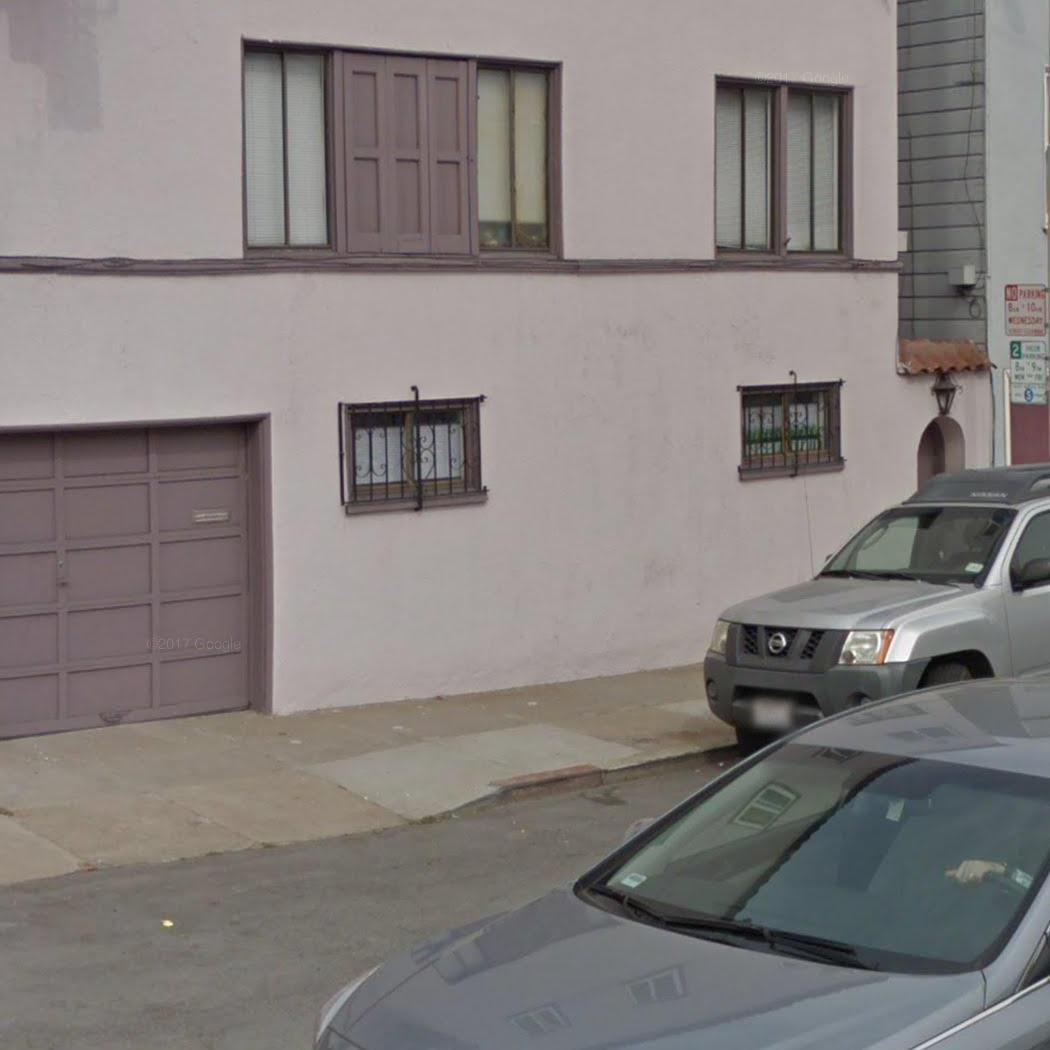2 Hour Parking: (1007, 336, 1050, 407)
No Parking: (1001, 280, 1050, 342)
